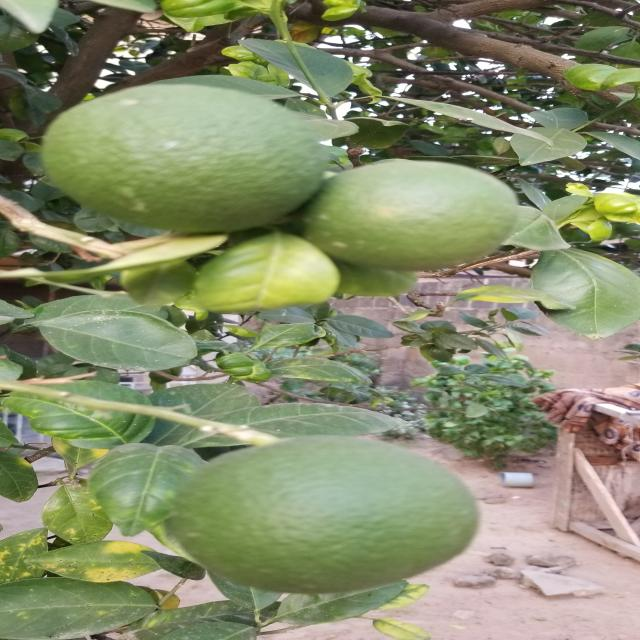Unripe: (163, 435, 500, 595), (33, 74, 340, 240), (300, 154, 526, 276)
